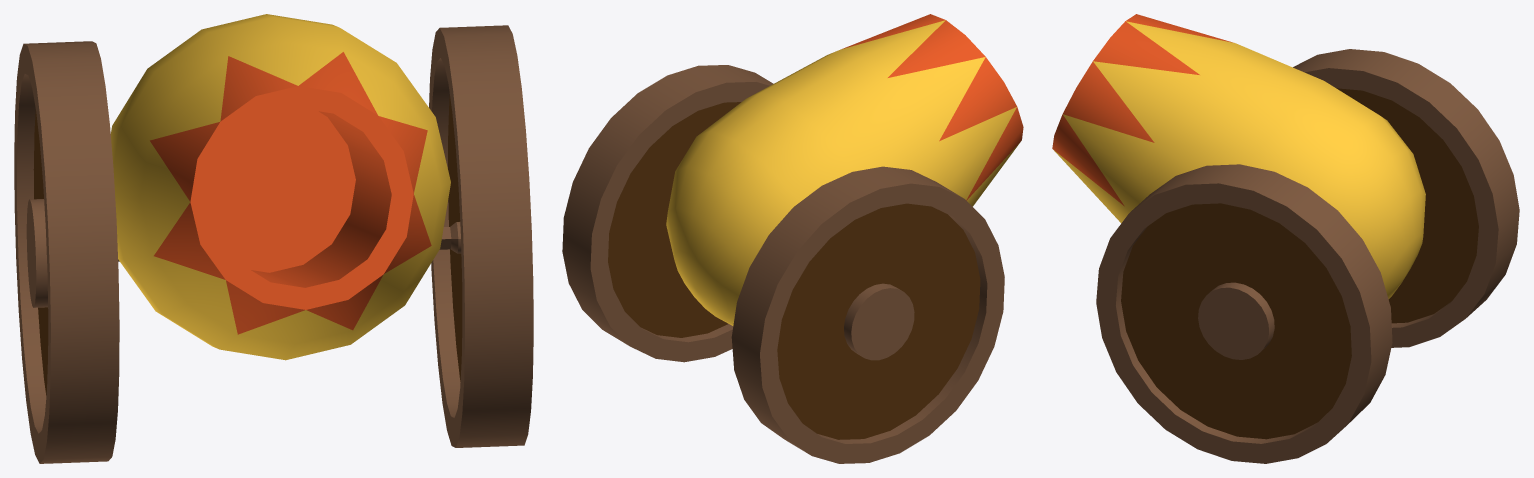
File: 9-topgun.glb
3 views of the same model, side by side, from view 1: azimuth 30°, elevation 25°; view 2: azimuth 150°, elevation 25°; view 3: azimuth 270°, elevation 25° (orthographic). The views are drawn at different scales.
Visible parts, largest first — view 1: circus canonball.001; view 2: circus canonball.001; view 3: circus canonball.001.
Part boxes in pixels (x1=…): circus canonball.001: x1=14, y1=14, x2=533, y2=463; circus canonball.001: x1=562, y1=14, x2=1023, y2=463; circus canonball.001: x1=1052, y1=14, x2=1519, y2=463.
Size of the model in its own units: 8.19 by 6.84 by 8.59.
Materials: 1 (1 with a texture image).
